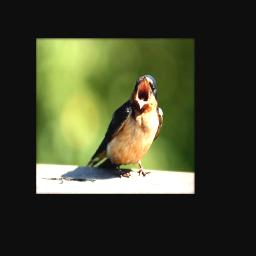Swallow: (86, 74, 164, 178)
